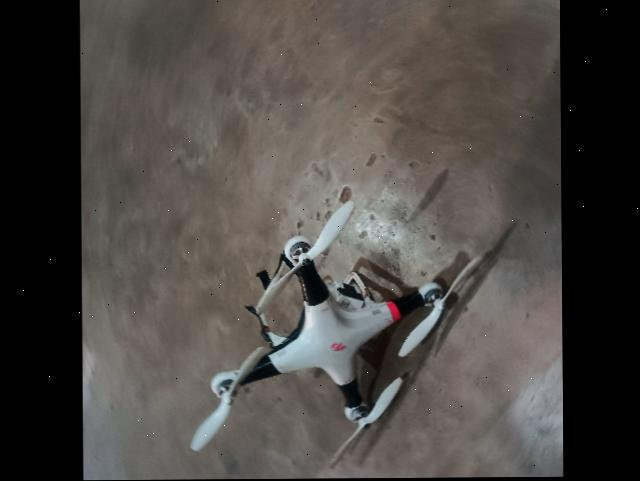drone: (158, 186, 499, 480)
